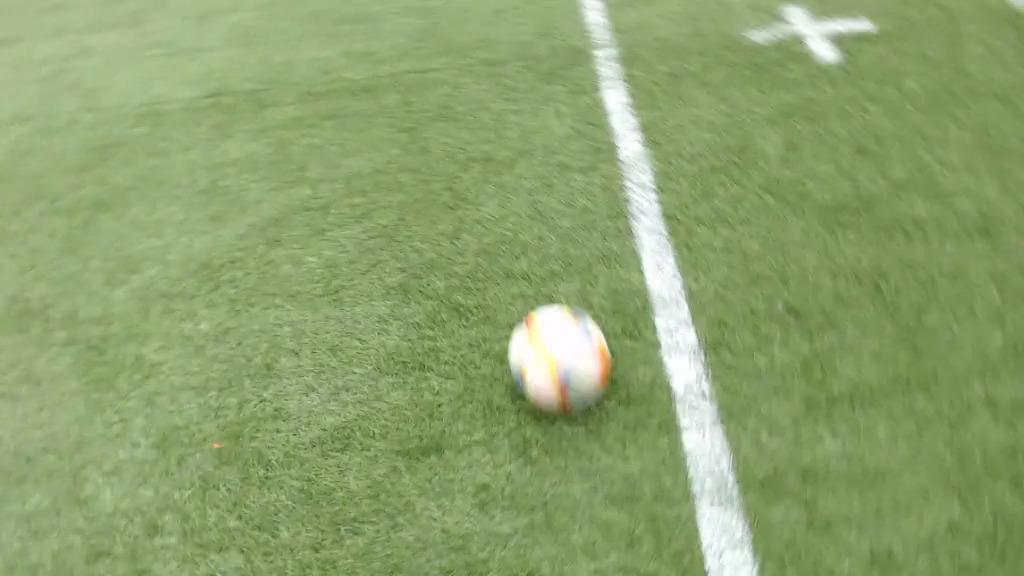ball: (510, 303, 612, 412)
